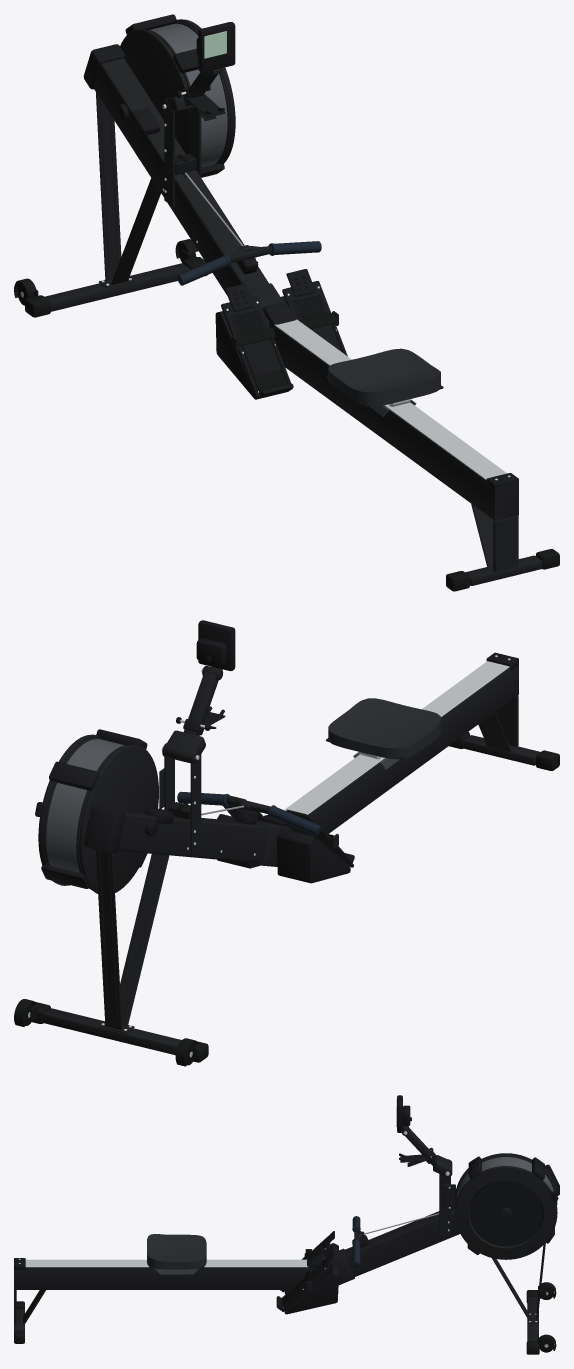
File: rower.glb
3 renders of one model, top to bottom at view 1: azimuth 30°, elevation 25°; view 2: azimuth 150°, elevation 25°; view 3: azimuth 270°, elevation 25°, orthographic. The views are drawn at different scales.
Parts seen in each view (by area): view 1: rower; view 2: rower; view 3: rower.
Boxes of the visible parts, x1,y1,x2,y2 form: rower: (14,14,559,591); rower: (14,620,559,1066); rower: (14,1095,559,1354).
Size of the model in its own units: 0.61 by 1.13 by 2.46.
